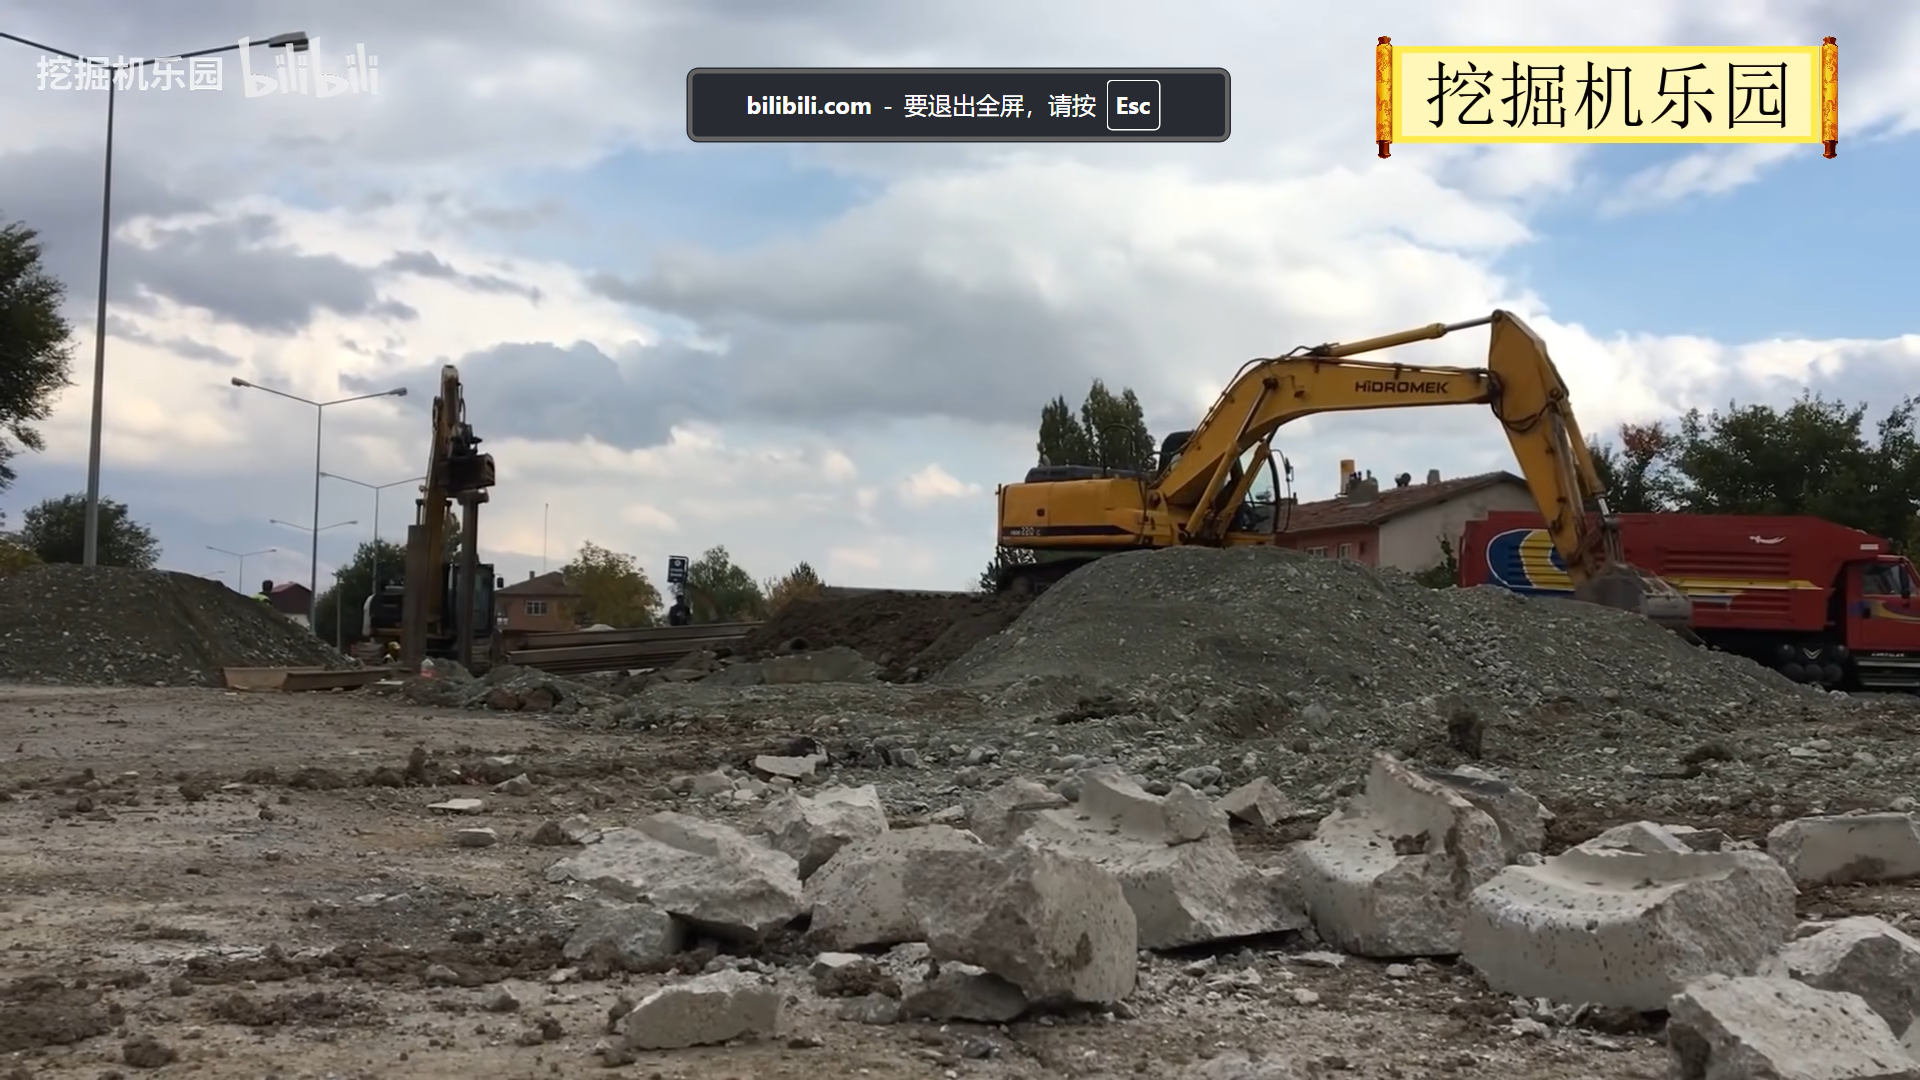excavator: (968, 298, 1657, 628)
